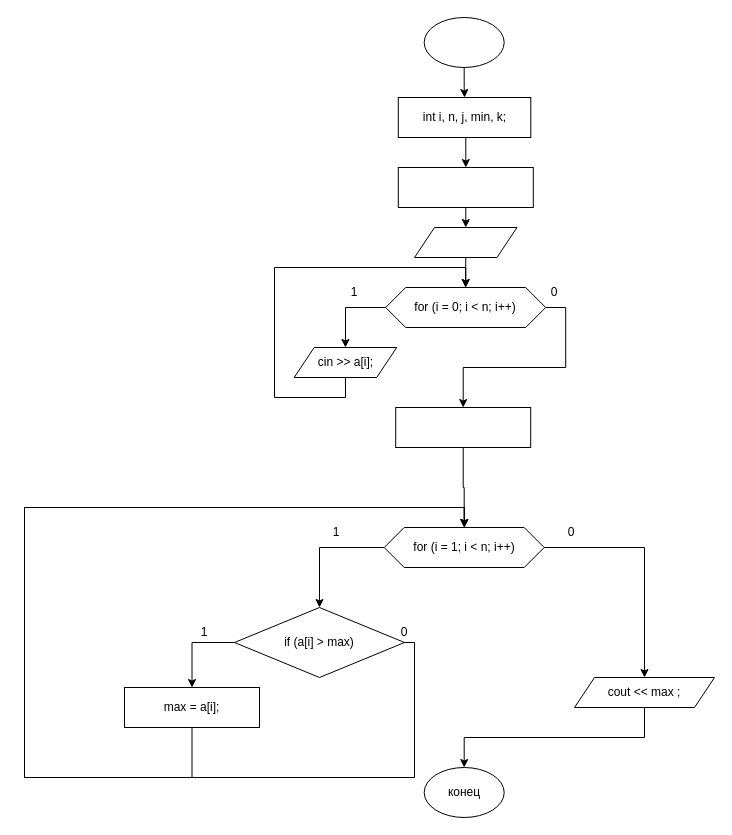
Image size: 732x835. Some labels were removed from this diagram. The shapes that lost their labels are listed below. From the top down, each one's centre as x and y in pixels, then its label:
the point at 463,42: начало
the point at 465,187: int a[50];
the point at 465,242: cin >> n;
the point at 463,427: max = a[0];
